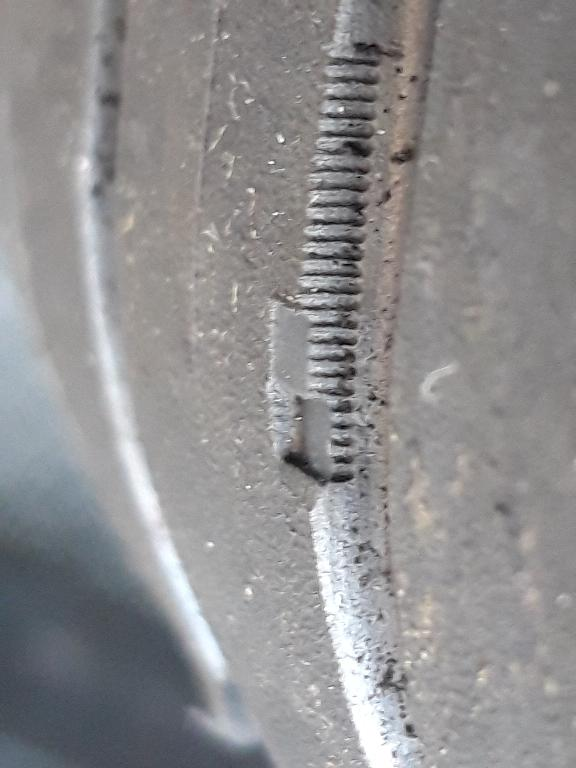temoin:25: (254, 276, 380, 516)
